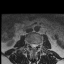CCS_normal: (33, 42, 35, 50)
LFS_normal: (36, 42, 38, 47)
LLS_normal: (35, 42, 36, 49)
RFS_normal: (29, 42, 31, 47)
RLS_normal: (31, 42, 32, 48)
